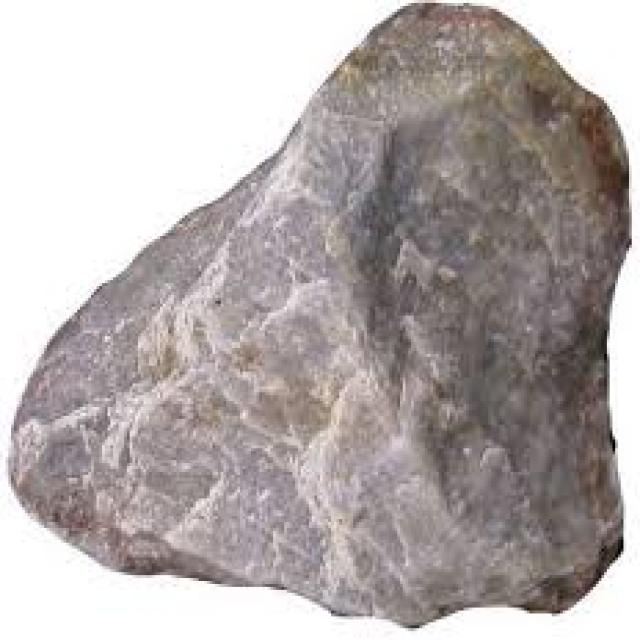Metamorphic: (14, 3, 637, 625)
